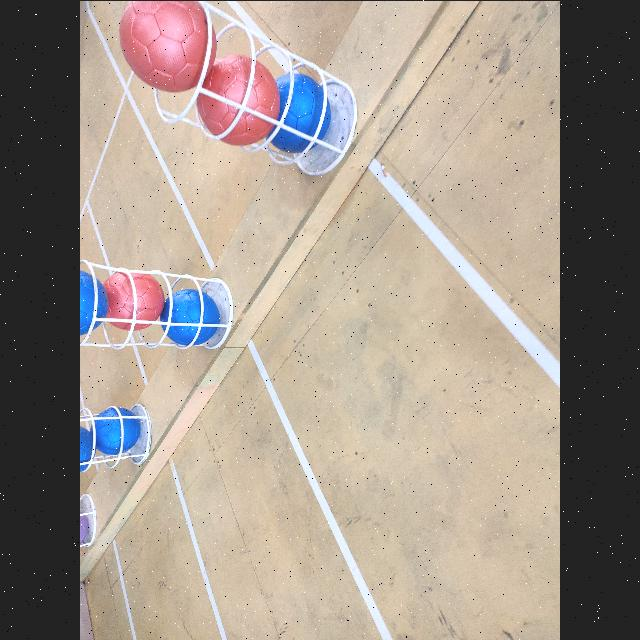B: (275, 72, 329, 152), (164, 290, 220, 346), (91, 406, 141, 456), (80, 269, 110, 337), (80, 424, 94, 476)
R: (119, 0, 215, 90), (195, 56, 277, 144), (102, 269, 162, 329)
